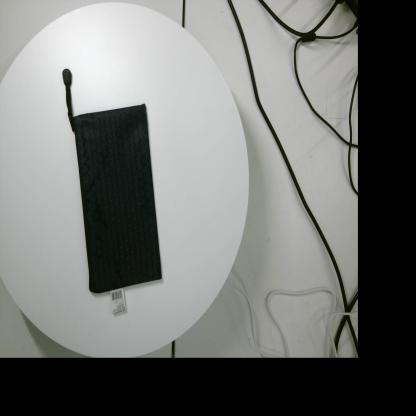Stationery: (62, 68, 162, 314)
